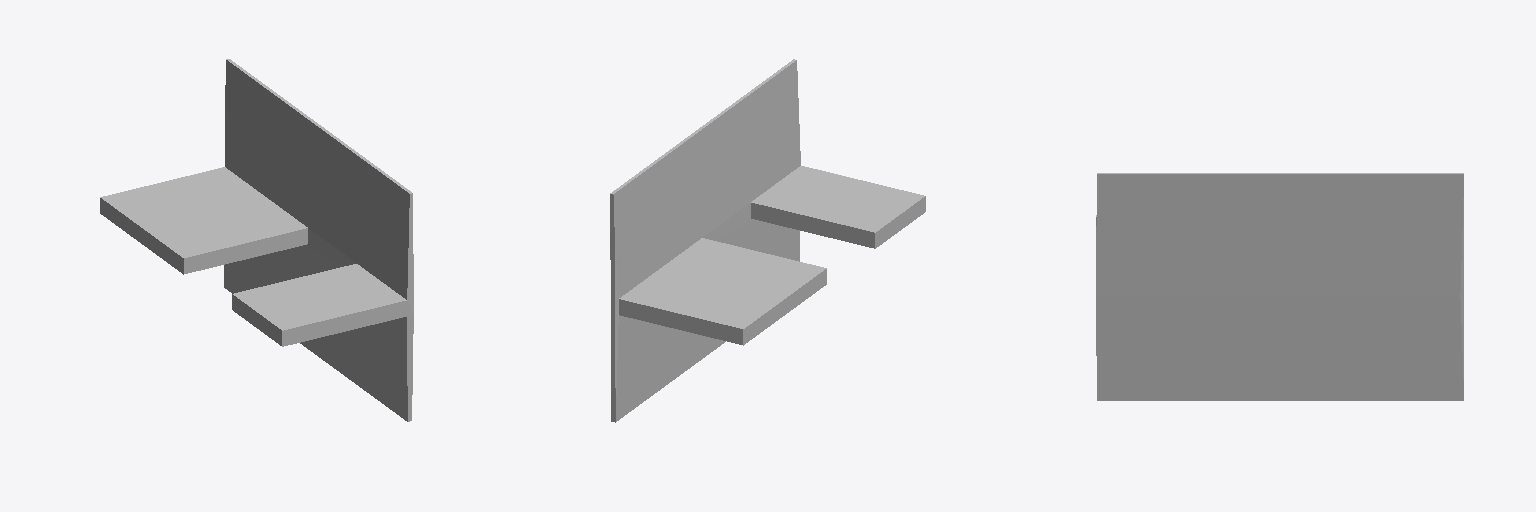
Rendered from less_tight_env-acd.obj.
3 views of the same model, side by side, from view 1: azimuth 30°, elevation 25°; view 2: azimuth 150°, elevation 25°; view 3: azimuth 270°, elevation 25° (orthographic).
Visible parts, largest first — view 1: convex_0, convex_1, convex_2; view 2: convex_0, convex_1, convex_2; view 3: convex_0.
Part boxes in pixels (left/top/right/bottom): convex_0: left=224, top=59, right=413, bottom=421; convex_1: left=100, top=167, right=307, bottom=274; convex_2: left=232, top=264, right=406, bottom=346; convex_0: left=610, top=59, right=800, bottom=422; convex_1: left=619, top=238, right=826, bottom=345; convex_2: left=751, top=166, right=925, bottom=248; convex_0: left=1096, top=173, right=1463, bottom=400.
Size of the model in its own units: 0.9115 by 1.51 by 2.21.